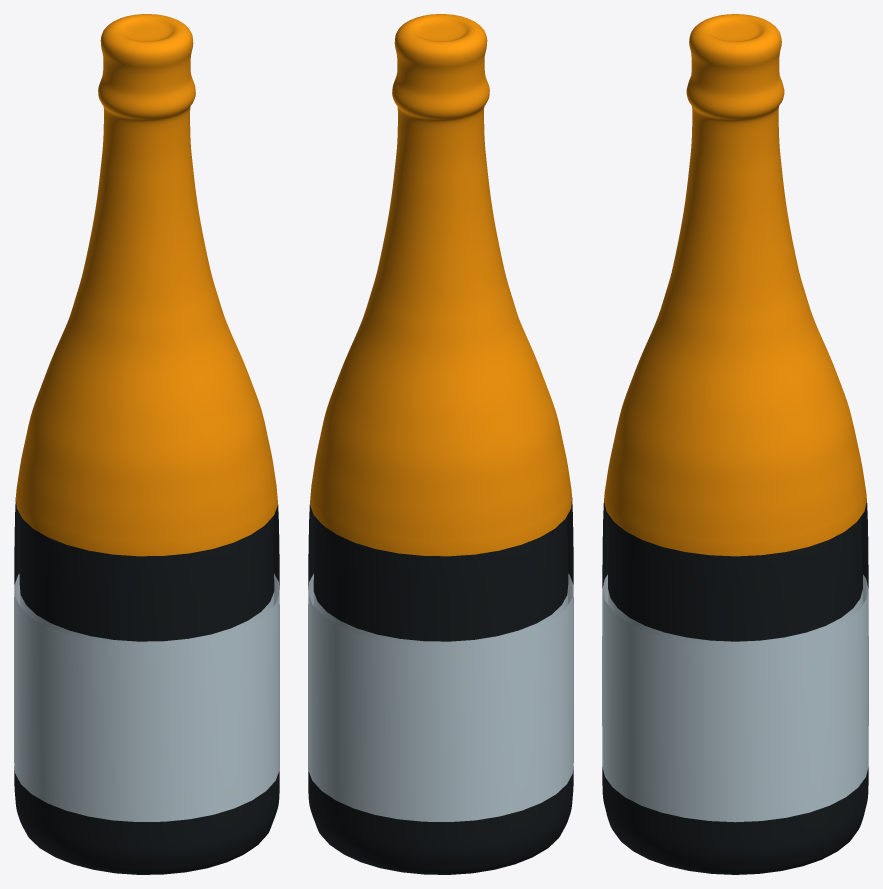
The model's file is champagne.obj.
3 renders of one model, left to right at view 1: azimuth 30°, elevation 25°; view 2: azimuth 150°, elevation 25°; view 3: azimuth 270°, elevation 25°, orthographic.
Visible parts, largest first — view 1: champagne:polySurface8 champagne:polySurface9 champagne:polySurf; view 2: champagne:polySurface8 champagne:polySurface9 champagne:polySurf; view 3: champagne:polySurface8 champagne:polySurface9 champagne:polySurf.
Part boxes in pixels (left/top/right/bottom): champagne:polySurface8 champagne:polySurface9 champagne:polySurf: left=14, top=14, right=279, bottom=874; champagne:polySurface8 champagne:polySurface9 champagne:polySurf: left=308, top=14, right=573, bottom=874; champagne:polySurface8 champagne:polySurface9 champagne:polySurf: left=602, top=14, right=868, bottom=874.
Bounding box in the file's own units: 33.31 × 110 × 33.31.
